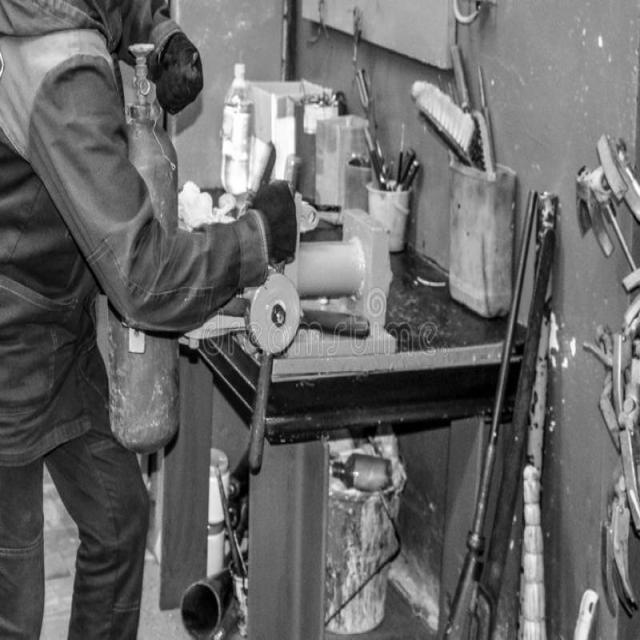fire_extinguisher: (96, 43, 190, 459)
